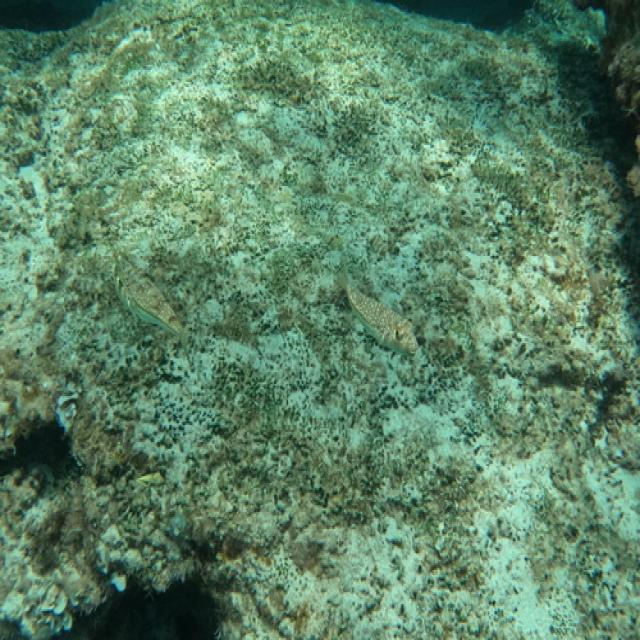Balik: (340, 265, 418, 354), (116, 260, 186, 346)
